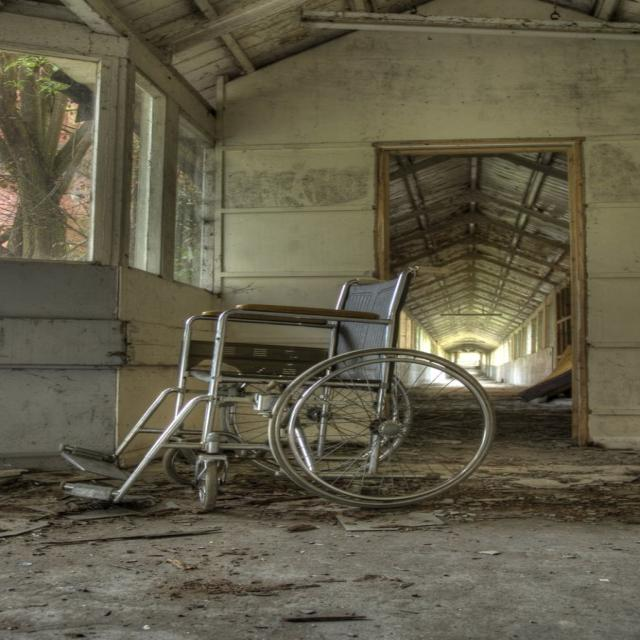wheelchairs: (60, 268, 505, 512)
